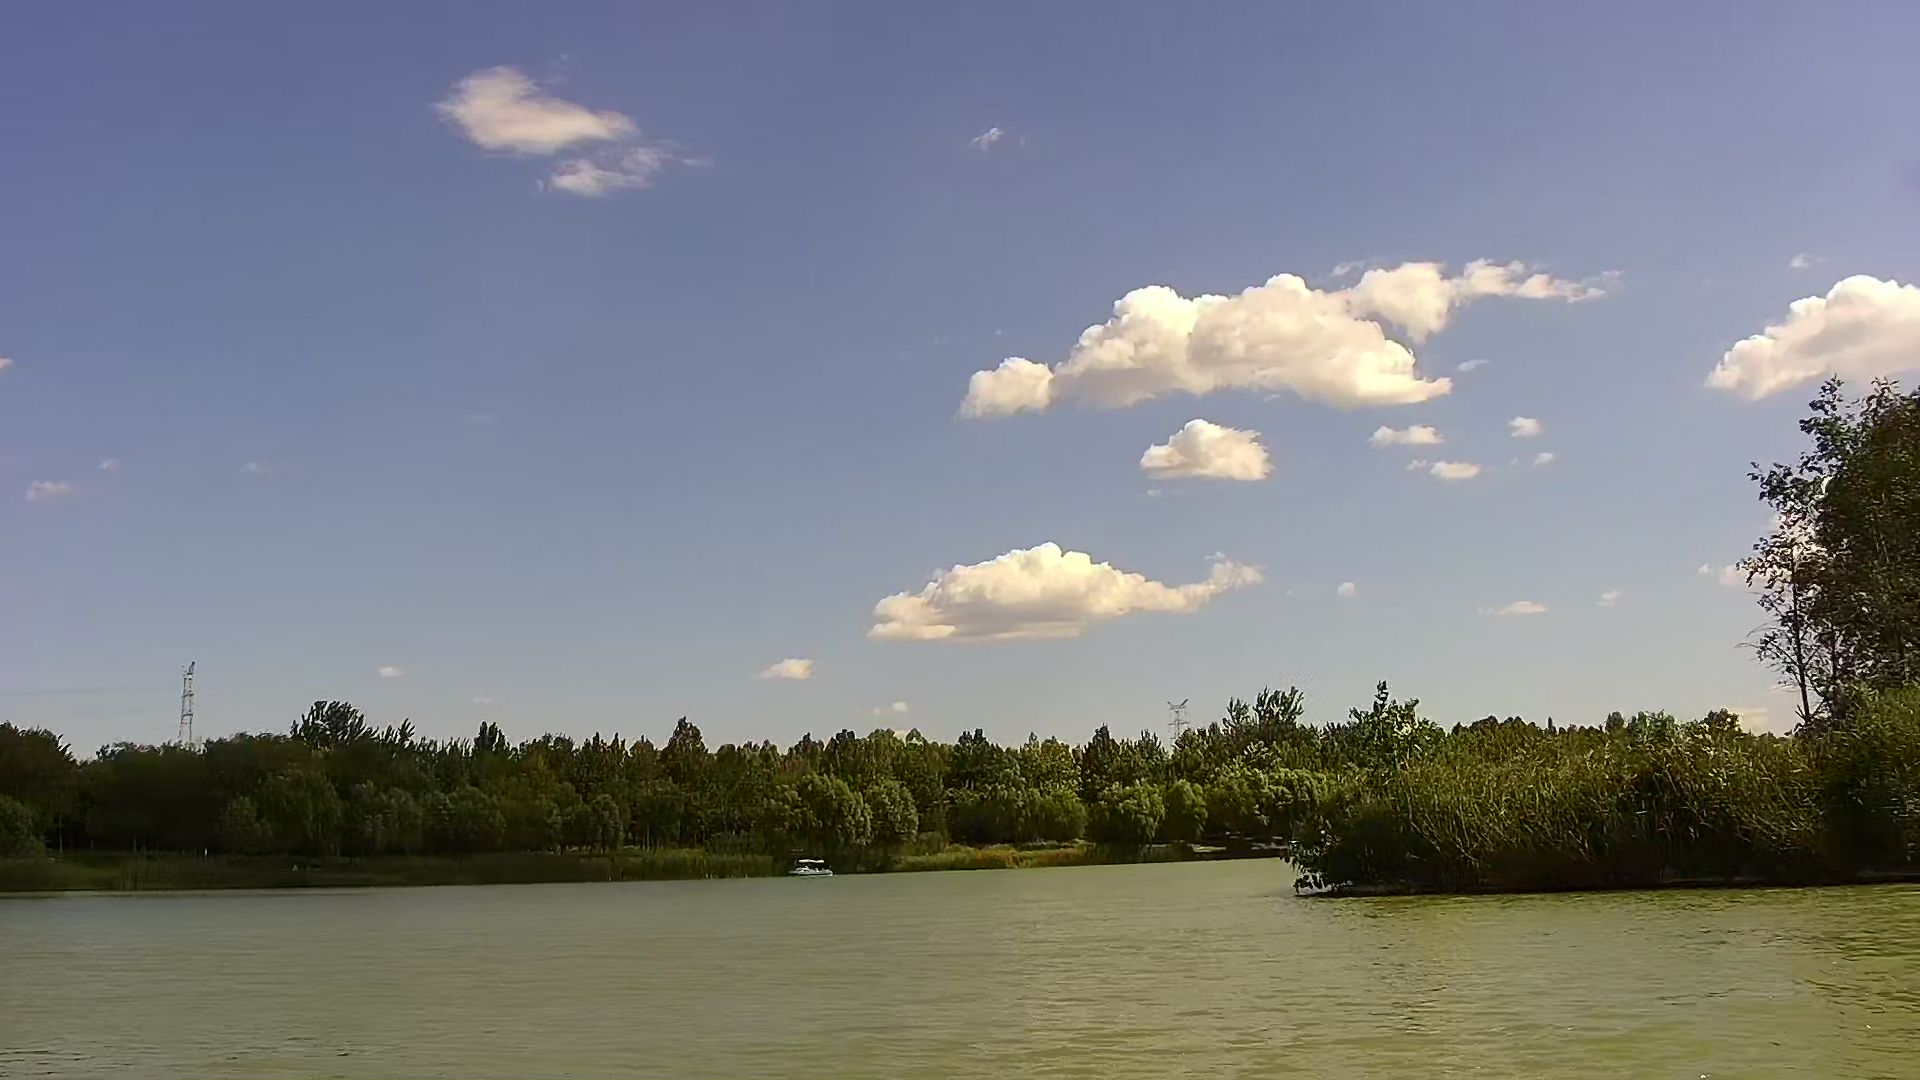boat: (790, 855, 833, 880)
